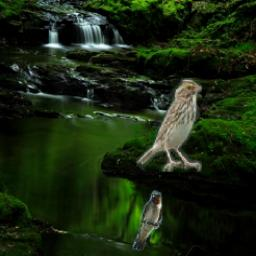Sparrow: (137, 79, 203, 173)
Swallow: (131, 190, 162, 251)
